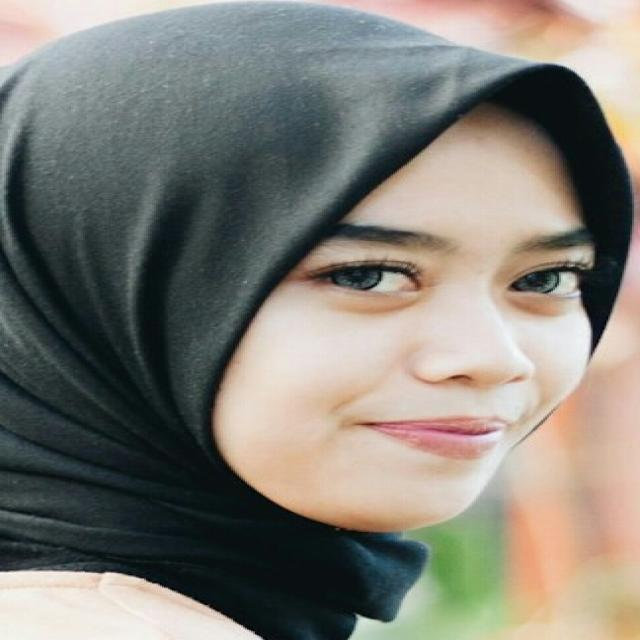front: (189, 199, 607, 525)
